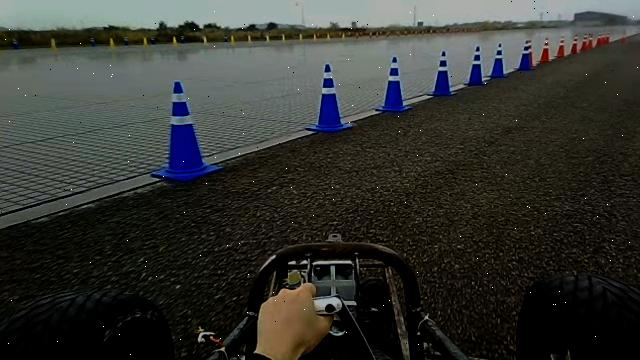blue cone: (150, 80, 223, 182), (306, 63, 354, 133), (375, 56, 412, 112), (426, 51, 457, 96), (463, 45, 488, 86), (488, 42, 508, 78), (515, 39, 533, 71)
